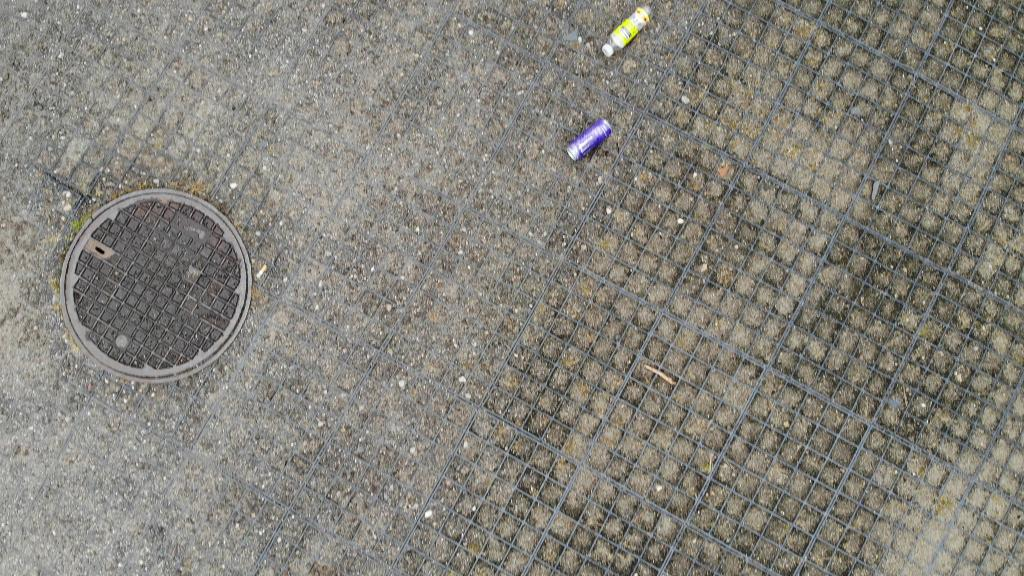garbage: (600, 4, 655, 62), (565, 119, 615, 164)
